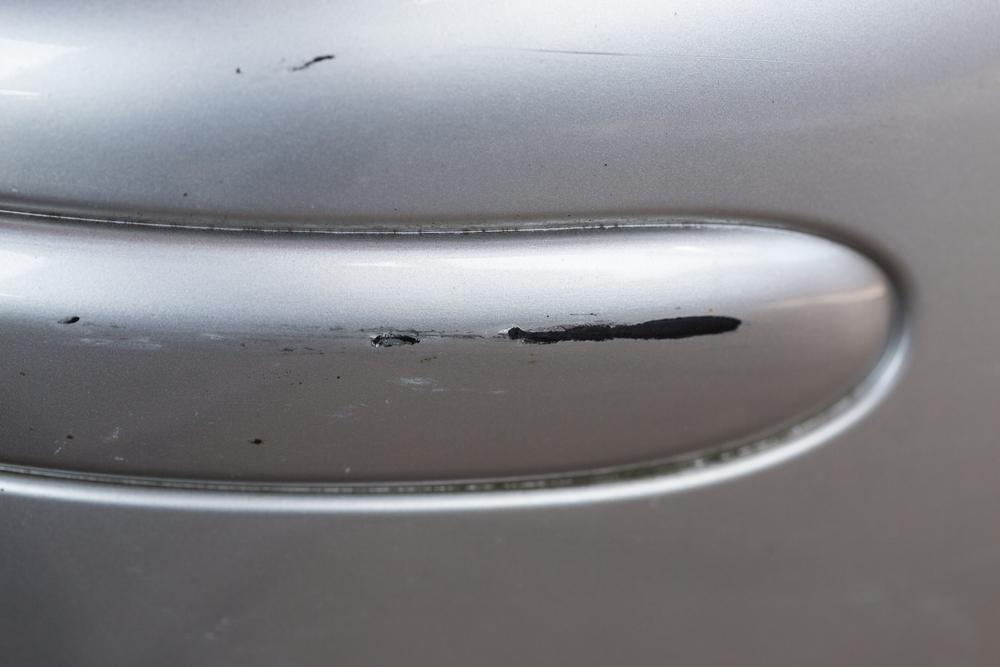scratch: (51, 305, 754, 355)
